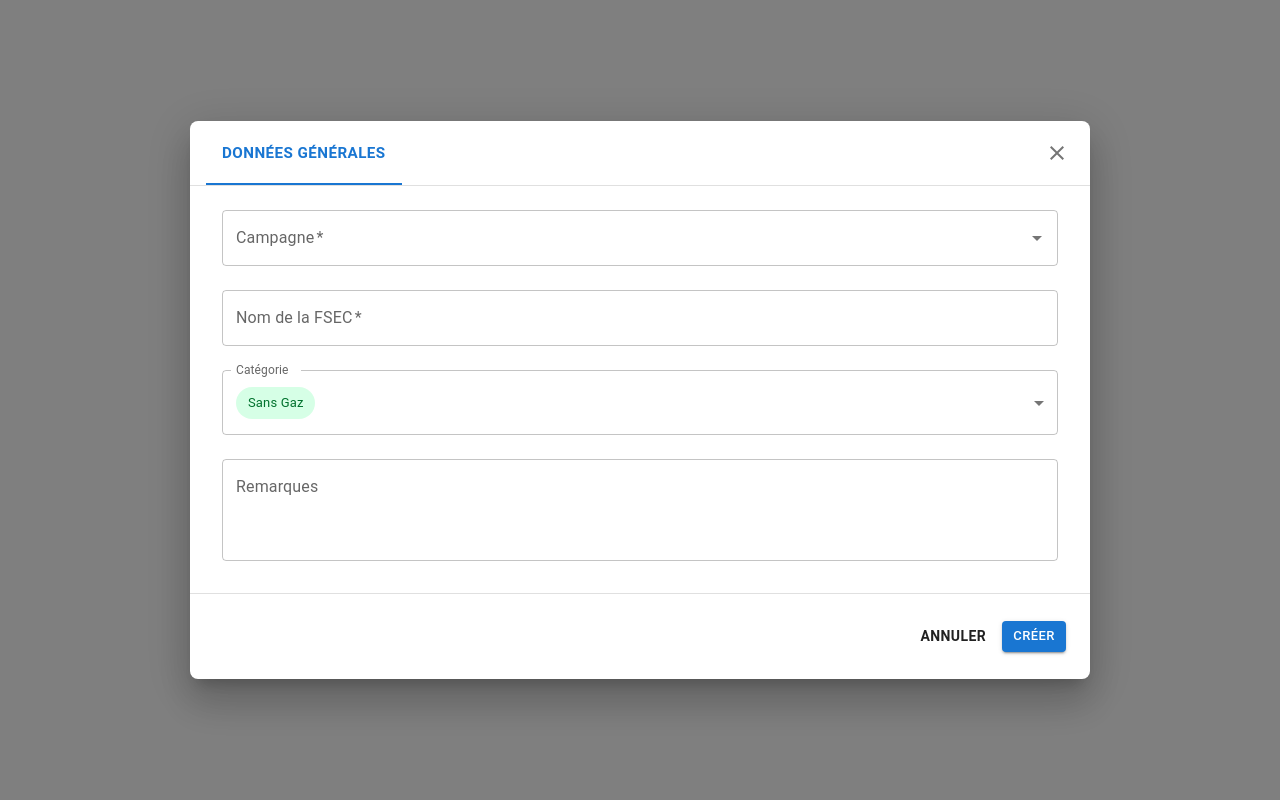
CreateFsecModal › Campaign Selection › should select campaign on click
Click the dropdown labelled "Campagne *".
click(625, 238)  # box [231,219,1019,257]
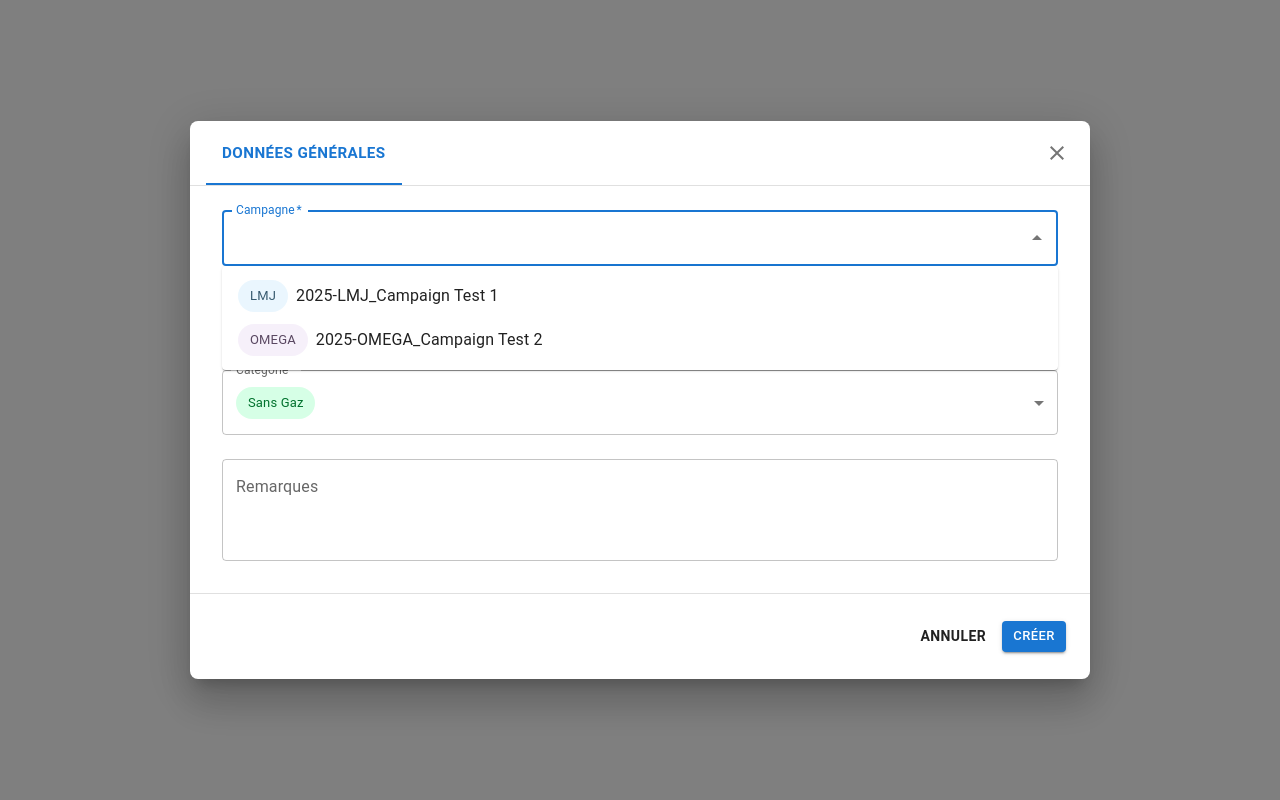
Click the text "2025-LMJ_Campaign Test 1".
click(397, 296)  # box [296,284,498,308]
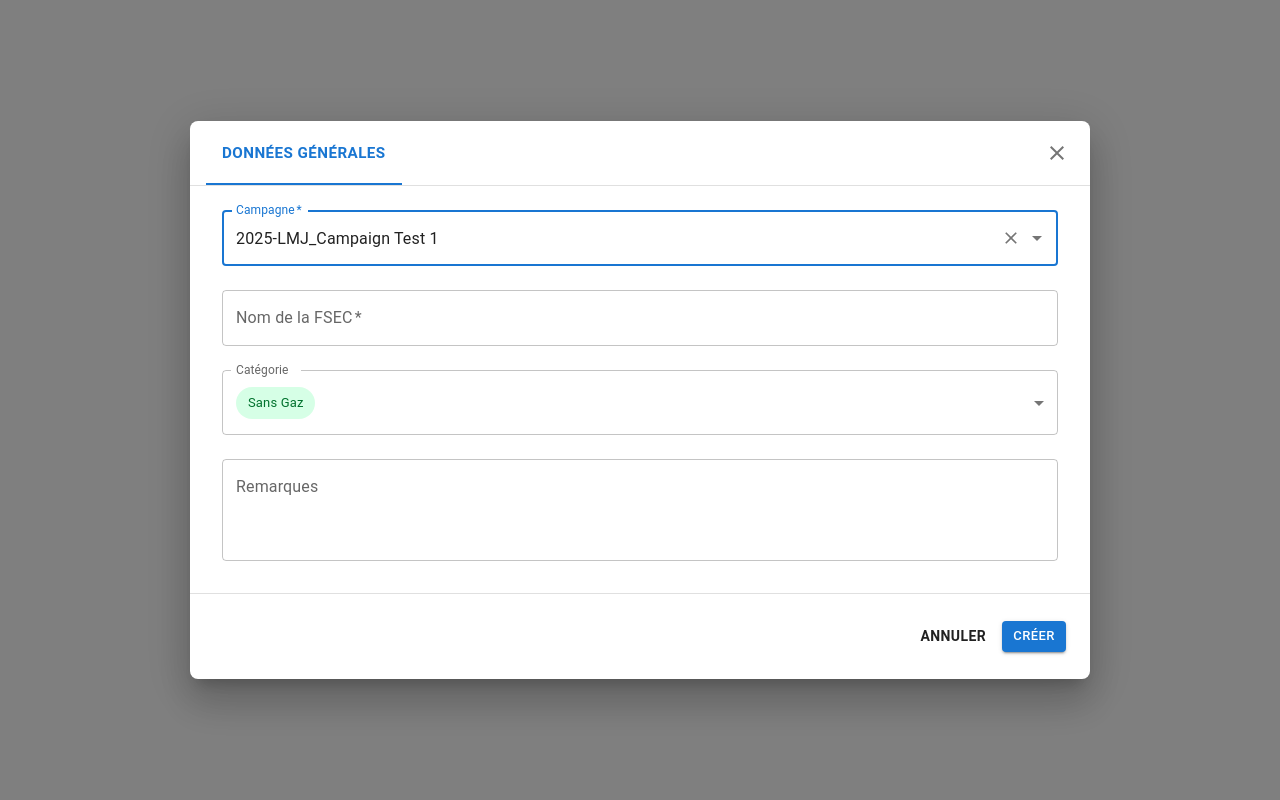
Now the dropdown labelled "Campagne *" holds "2025-LMJ_Campaign Test 1", box [231,219,993,257]
